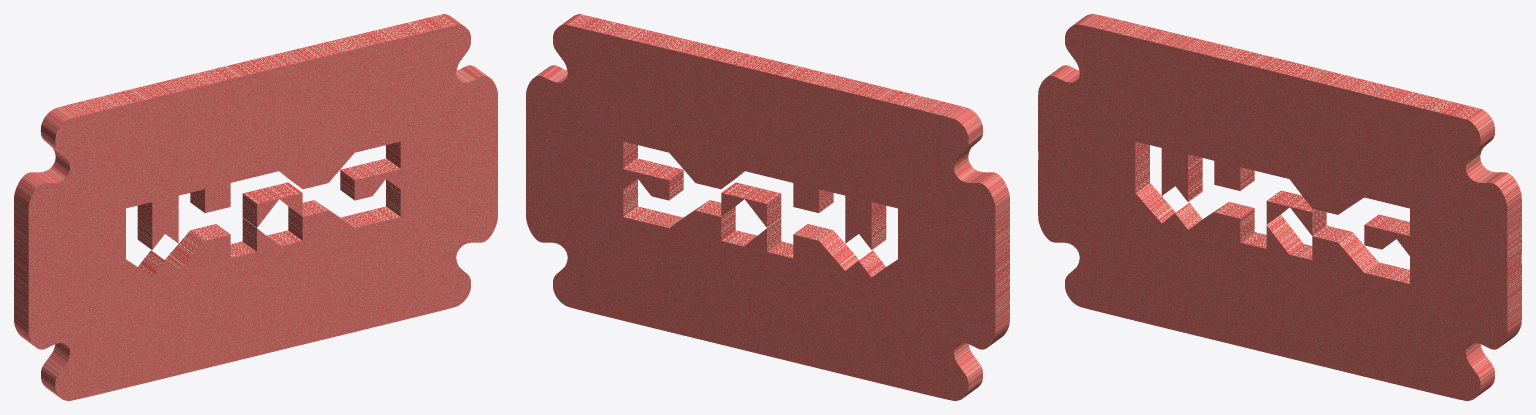
The model's file is red-glitter.glb.
3 renders of one model, left to right at view 1: azimuth 30°, elevation 25°; view 2: azimuth 150°, elevation 25°; view 3: azimuth 330°, elevation 25°, orthographic.
Visible parts, largest first — view 1: Razor; view 2: Razor; view 3: Razor.
Boxes of the visible parts, x1,y1,x2,y2 form: Razor: (14, 14, 497, 400); Razor: (526, 14, 1009, 400); Razor: (1038, 14, 1521, 400).
Size of the model in its own units: 0.5609 by 0.3234 by 0.03.
1 material, 1 textured.
